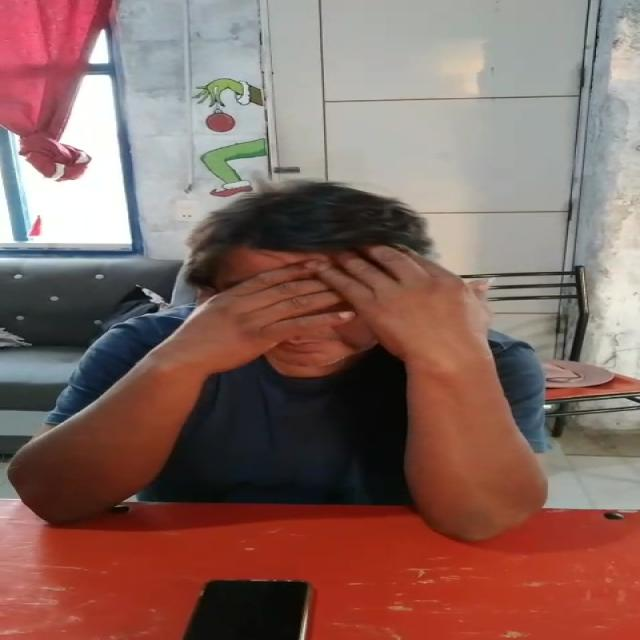7_mano_rostro: (212, 244, 428, 374)
